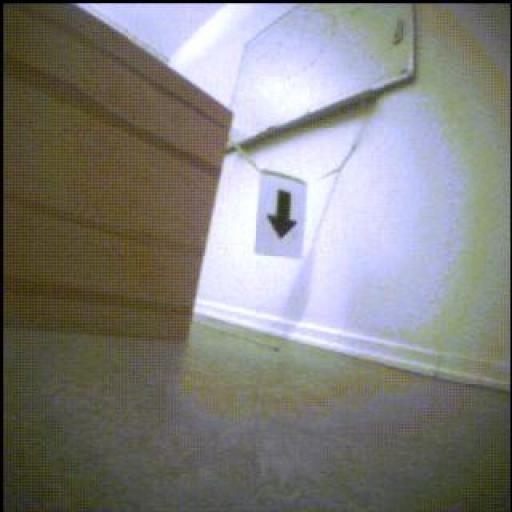arrow: (268, 192, 297, 240)
